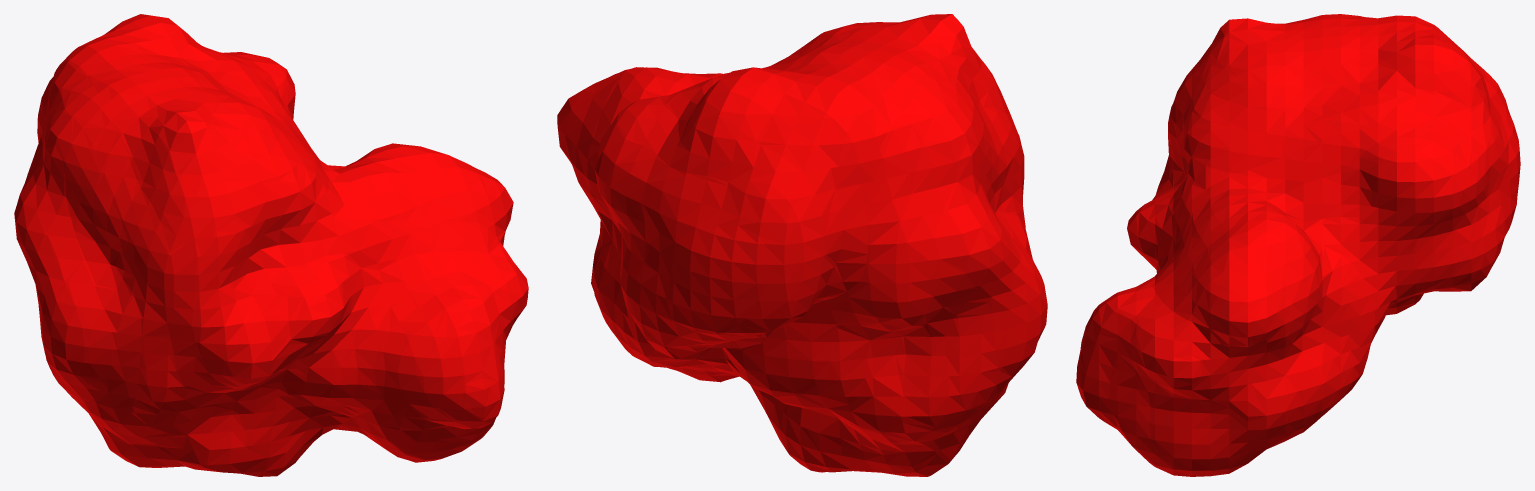
The model's file is yniA_coarse.dae.
The picture shows the model from 3 angles, left to right: view 1: azimuth 30°, elevation 25°; view 2: azimuth 150°, elevation 25°; view 3: azimuth 270°, elevation 25°; orthographic projection. The views are drawn at different scales.
Parts seen in each view (by area): view 1: yniA; view 2: yniA; view 3: yniA.
Part boxes in pixels (x1,y1,x2,y2): yniA: (14,14,528,476); yniA: (557,14,1047,476); yniA: (1076,14,1520,476).
Size of the model in its own units: 59.77 by 51.32 by 55.96.
